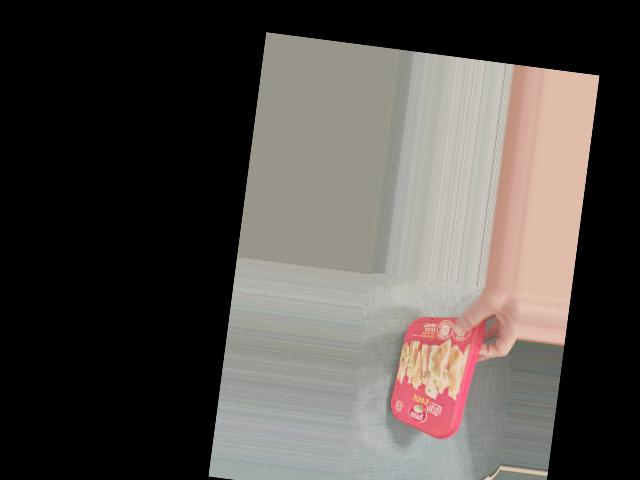cheese: (384, 313, 480, 435)
